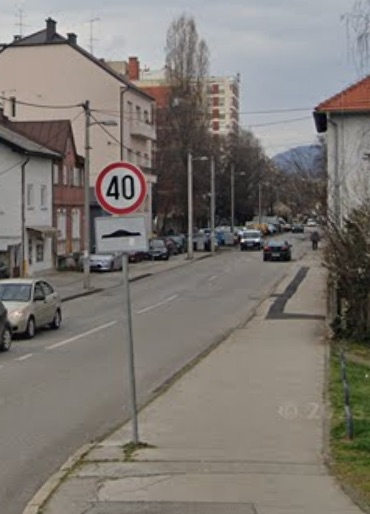Ograničenje brzine 40: (95, 162, 146, 215)
